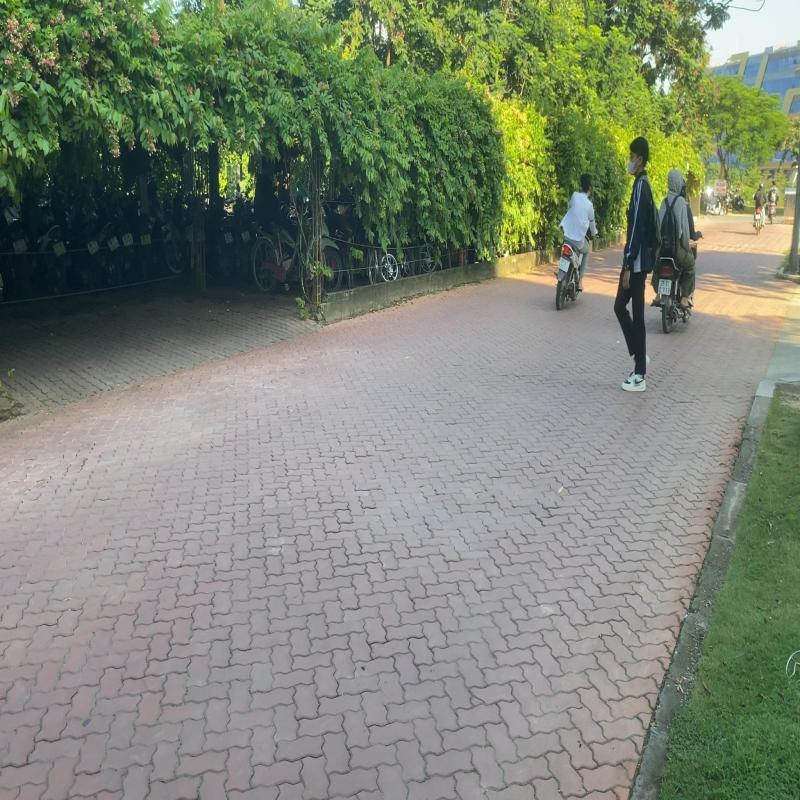nohelmet: (578, 170, 594, 198)
